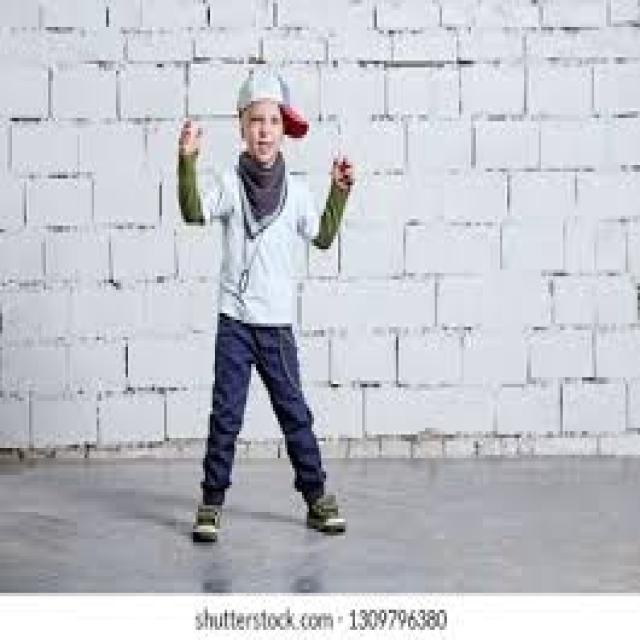cap: (210, 54, 321, 151)
